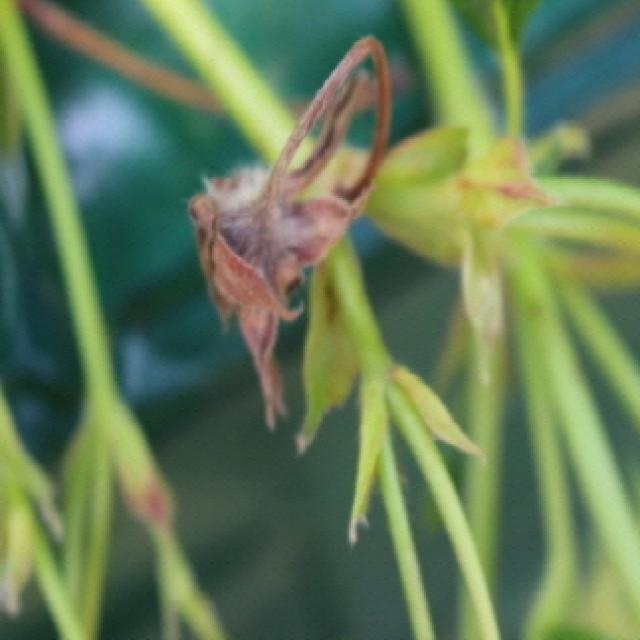Gray Mold: (188, 33, 394, 436)
